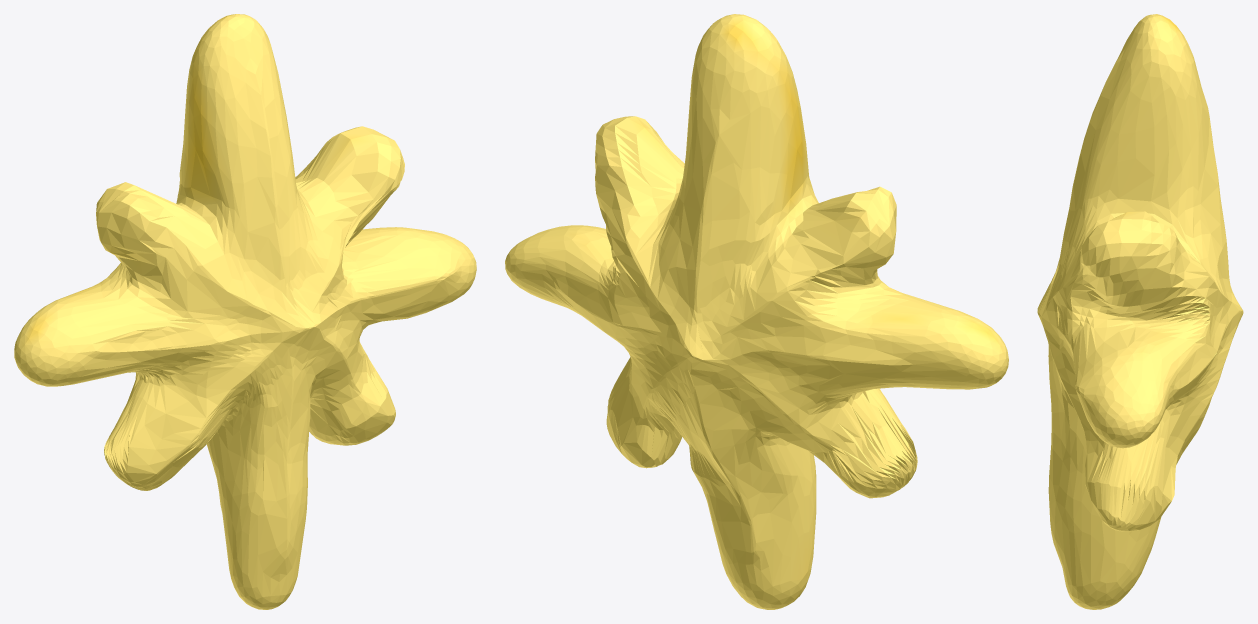
The model's file is star.glb.
3 renders of one model, left to right at view 1: azimuth 30°, elevation 25°; view 2: azimuth 150°, elevation 25°; view 3: azimuth 270°, elevation 25°, orthographic. The views are drawn at different scales.
Parts seen in each view (by area): view 1: Sphere; view 2: Sphere; view 3: Sphere.
Boxes of the visible parts, left/top/right/bottom form: Sphere: left=14, top=14, right=476, bottom=609; Sphere: left=505, top=14, right=1008, bottom=609; Sphere: left=1037, top=14, right=1243, bottom=609.
Size of the model in its own units: 0.2939 by 0.3503 by 0.111.
